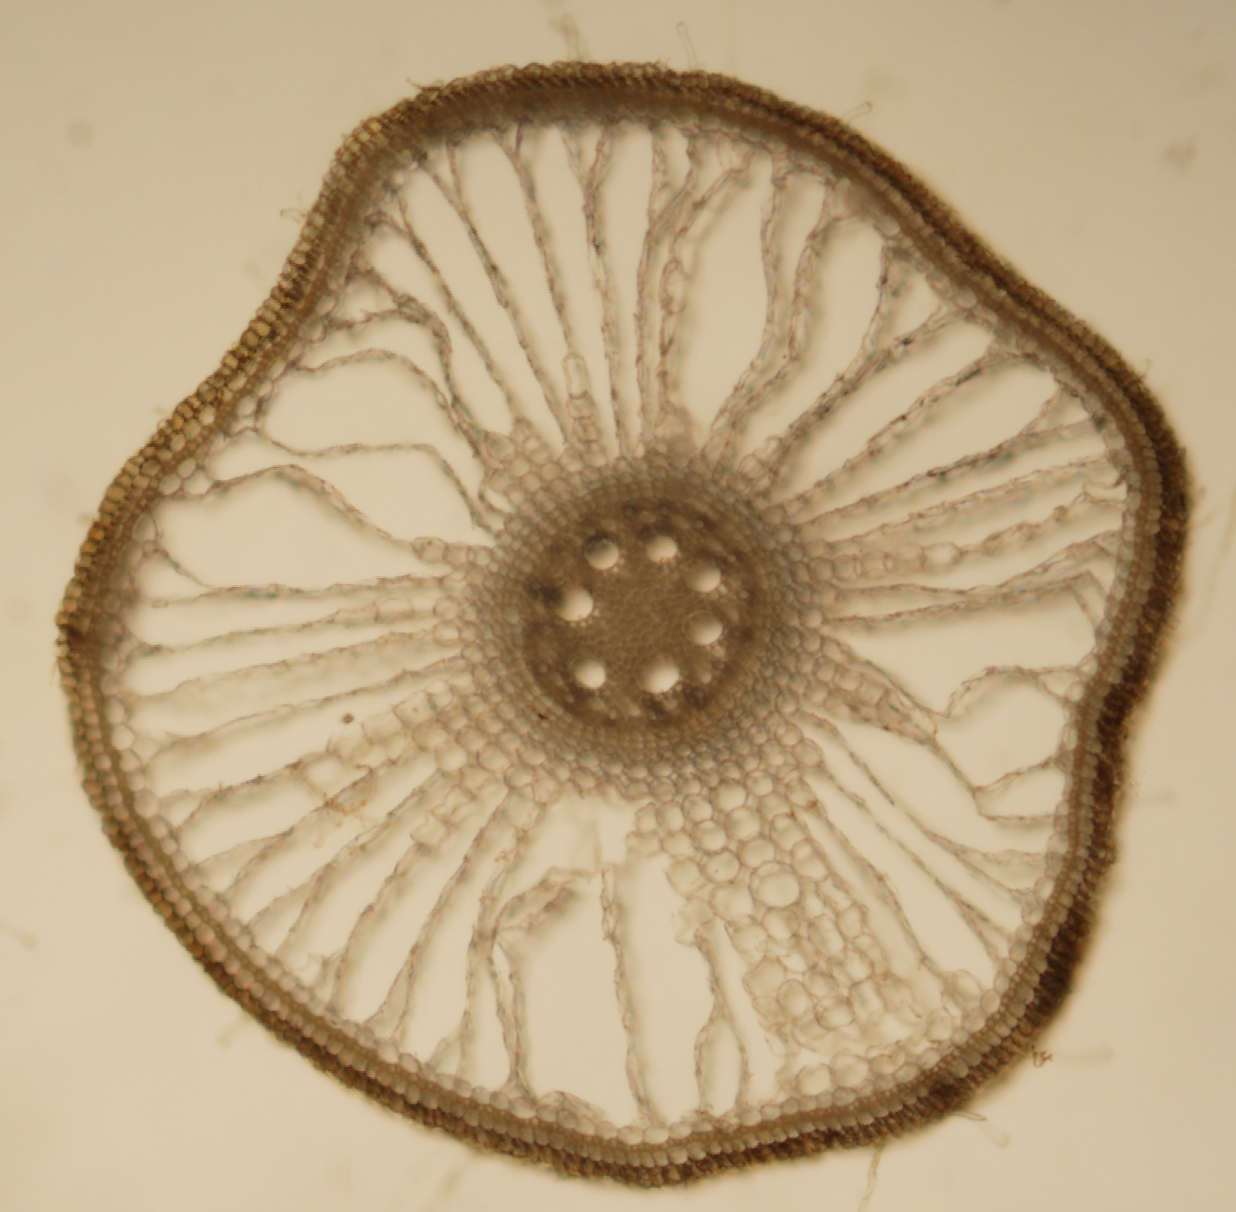lm: (634, 652, 679, 694), (548, 582, 592, 622), (682, 556, 721, 592), (683, 610, 723, 645), (584, 538, 619, 570), (573, 657, 606, 689), (645, 534, 678, 563)
